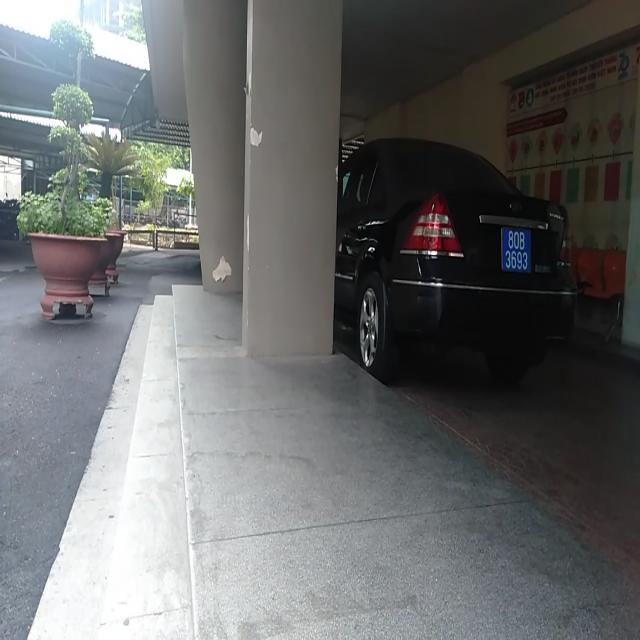bien_xanh: (499, 218, 532, 282)
